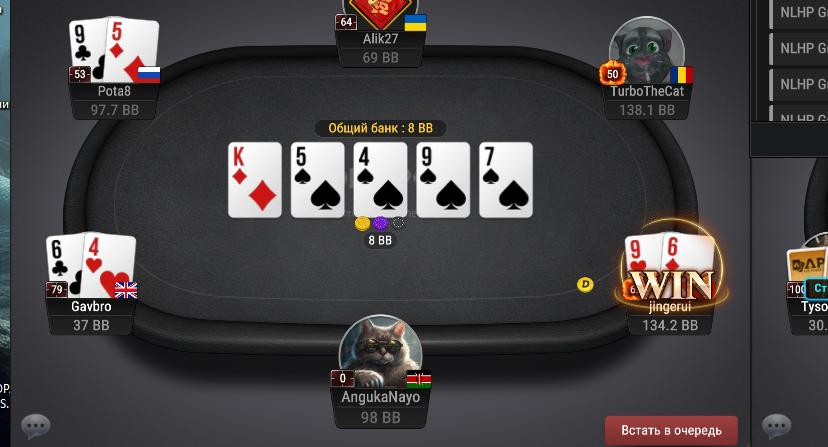4h: (83, 230, 136, 299)
4s: (355, 142, 408, 216)
5d: (106, 15, 160, 81)
5s: (292, 144, 345, 216)
6c: (44, 232, 84, 298)
6d: (663, 232, 712, 274)
7s: (480, 142, 532, 214)
9c: (68, 18, 108, 83)
9h: (624, 235, 662, 272)
9s: (416, 143, 470, 216)
Kd: (229, 143, 282, 216)
